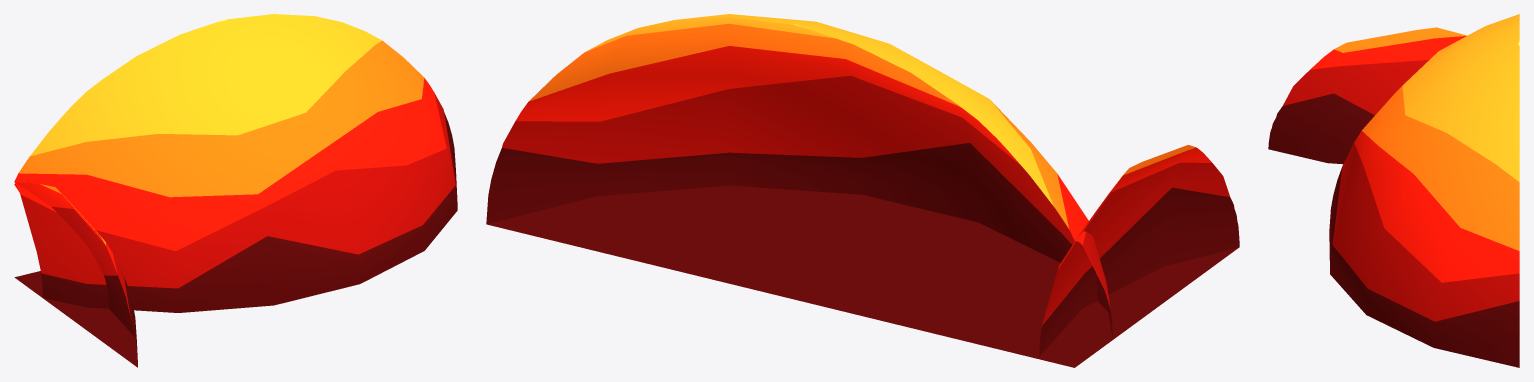
Rendered from shot_charge_b243.glb.
3 renders of one model, left to right at view 1: azimuth 30°, elevation 25°; view 2: azimuth 150°, elevation 25°; view 3: azimuth 270°, elevation 25°, orthographic. The views are drawn at different scales.
Parts seen in each view (by area): view 1: charge_twin3_a_fire_shot_charge_b243, charge_twin3_b_fire_shot_charge_b243; view 2: charge_twin3_a_fire_shot_charge_b243, charge_twin3_b_fire_shot_charge_b243; view 3: charge_twin3_a_fire_shot_charge_b243, charge_twin3_b_fire_shot_charge_b243.
Part boxes in pixels (box(x1,y1,x2,y2)): charge_twin3_a_fire_shot_charge_b243: box(14, 14, 457, 312); charge_twin3_b_fire_shot_charge_b243: box(14, 182, 137, 367); charge_twin3_a_fire_shot_charge_b243: box(486, 14, 1112, 367); charge_twin3_b_fire_shot_charge_b243: box(1039, 145, 1239, 367); charge_twin3_a_fire_shot_charge_b243: box(1329, 14, 1519, 367); charge_twin3_b_fire_shot_charge_b243: box(1268, 27, 1467, 164).
Bounding box in the file's own units: 10.65 × 4.75 × 5.17.
